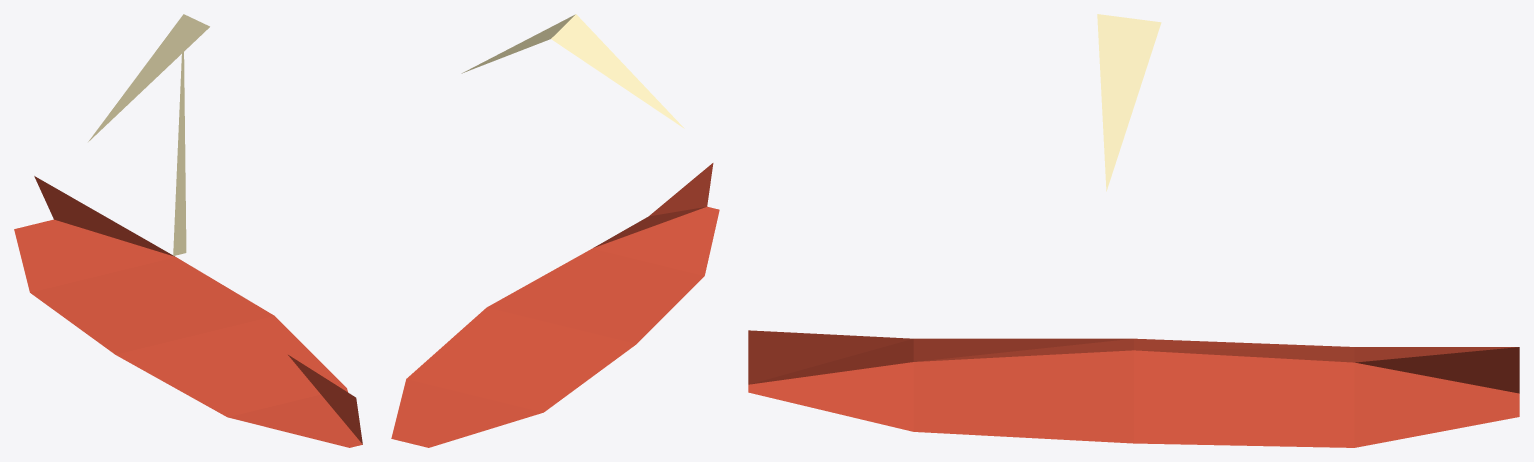
Rendered from transport_sailboat.glb.
3 views of the same model, side by side, from view 1: azimuth 30°, elevation 25°; view 2: azimuth 150°, elevation 25°; view 3: azimuth 270°, elevation 25° (orthographic). The views are drawn at different scales.
Visible parts, largest first — view 1: hull, sail_root; view 2: hull, sail_root; view 3: hull, sail_root.
Part boxes in pixels (x1=…): hull: x1=14, y1=176, x2=362, y2=447; sail_root: x1=88, y1=14, x2=209, y2=255; hull: x1=391, y1=163, x2=719, y2=447; sail_root: x1=461, y1=14, x2=684, y2=128; hull: x1=748, y1=330, x2=1519, y2=447; sail_root: x1=1097, y1=14, x2=1161, y2=191.
Bounding box in the file's own units: 1.8 × 2.35 × 4.2.
